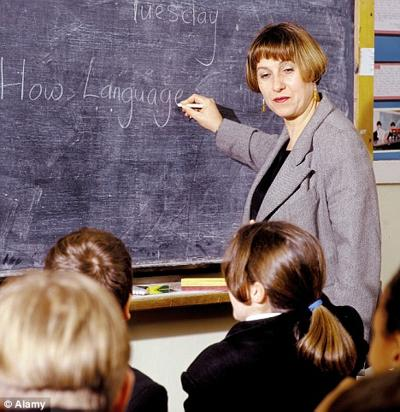person: (182, 21, 382, 352)
